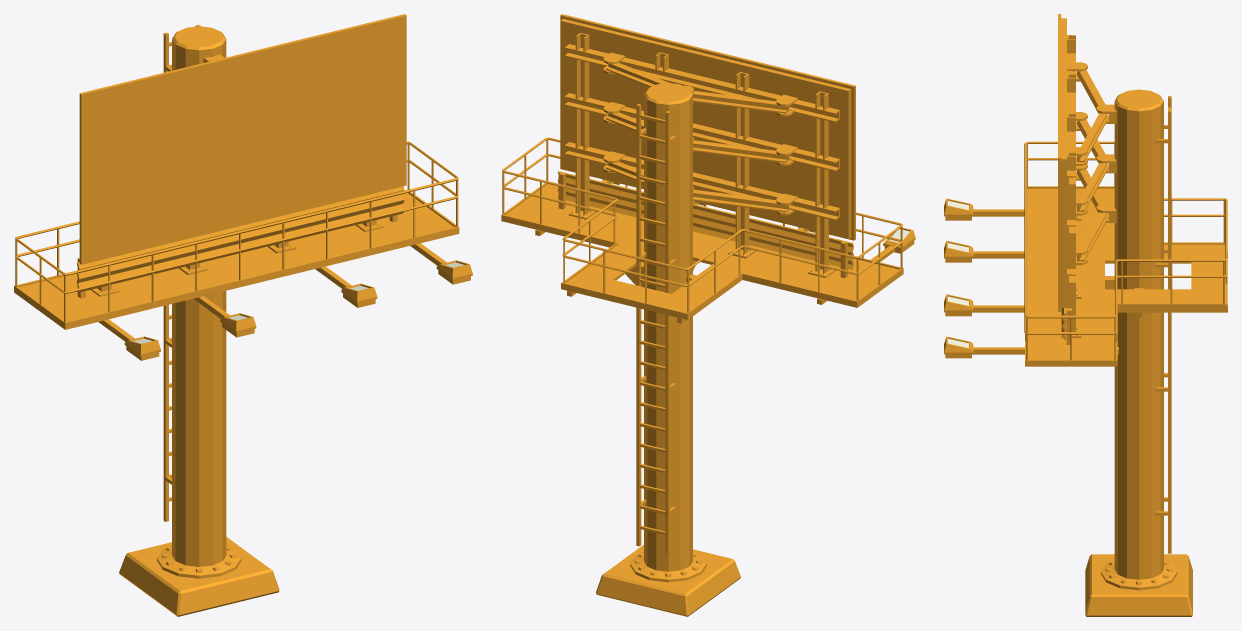
The model's file is SM_Billboard_Small_Color.fbx.
The picture shows the model from 3 angles, left to right: view 1: azimuth 30°, elevation 25°; view 2: azimuth 150°, elevation 25°; view 3: azimuth 270°, elevation 25°; orthographic projection. The views are drawn at different scales.
Visible parts, largest first — view 1: SM_Billboard_Small_Color; view 2: SM_Billboard_Small_Color; view 3: SM_Billboard_Small_Color.
Part boxes in pixels (x1,y1,x2,y2): SM_Billboard_Small_Color: [14, 14, 472, 616]; SM_Billboard_Small_Color: [501, 14, 915, 616]; SM_Billboard_Small_Color: [944, 14, 1227, 616].
Size of the model in its own units: 6.09 by 8.25 by 4.17.
